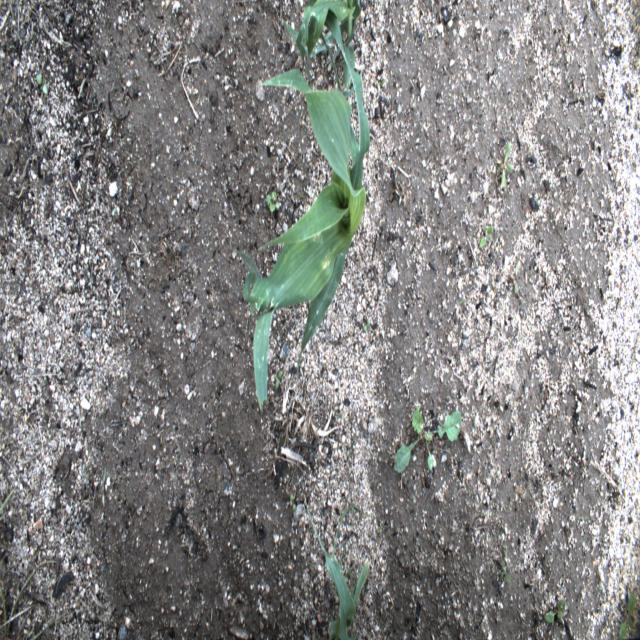crop: (234, 8, 370, 411), (306, 501, 370, 638), (282, 1, 362, 97)
weed: (0, 558, 75, 640), (391, 409, 463, 474), (498, 139, 514, 192), (618, 591, 634, 639), (542, 598, 568, 627), (0, 480, 20, 516), (498, 549, 511, 586), (264, 188, 280, 216), (479, 220, 494, 249), (36, 72, 50, 93), (374, 71, 384, 95), (288, 491, 298, 514), (260, 396, 269, 418), (511, 269, 518, 294), (276, 370, 282, 391), (362, 320, 371, 331), (376, 525, 384, 535)
